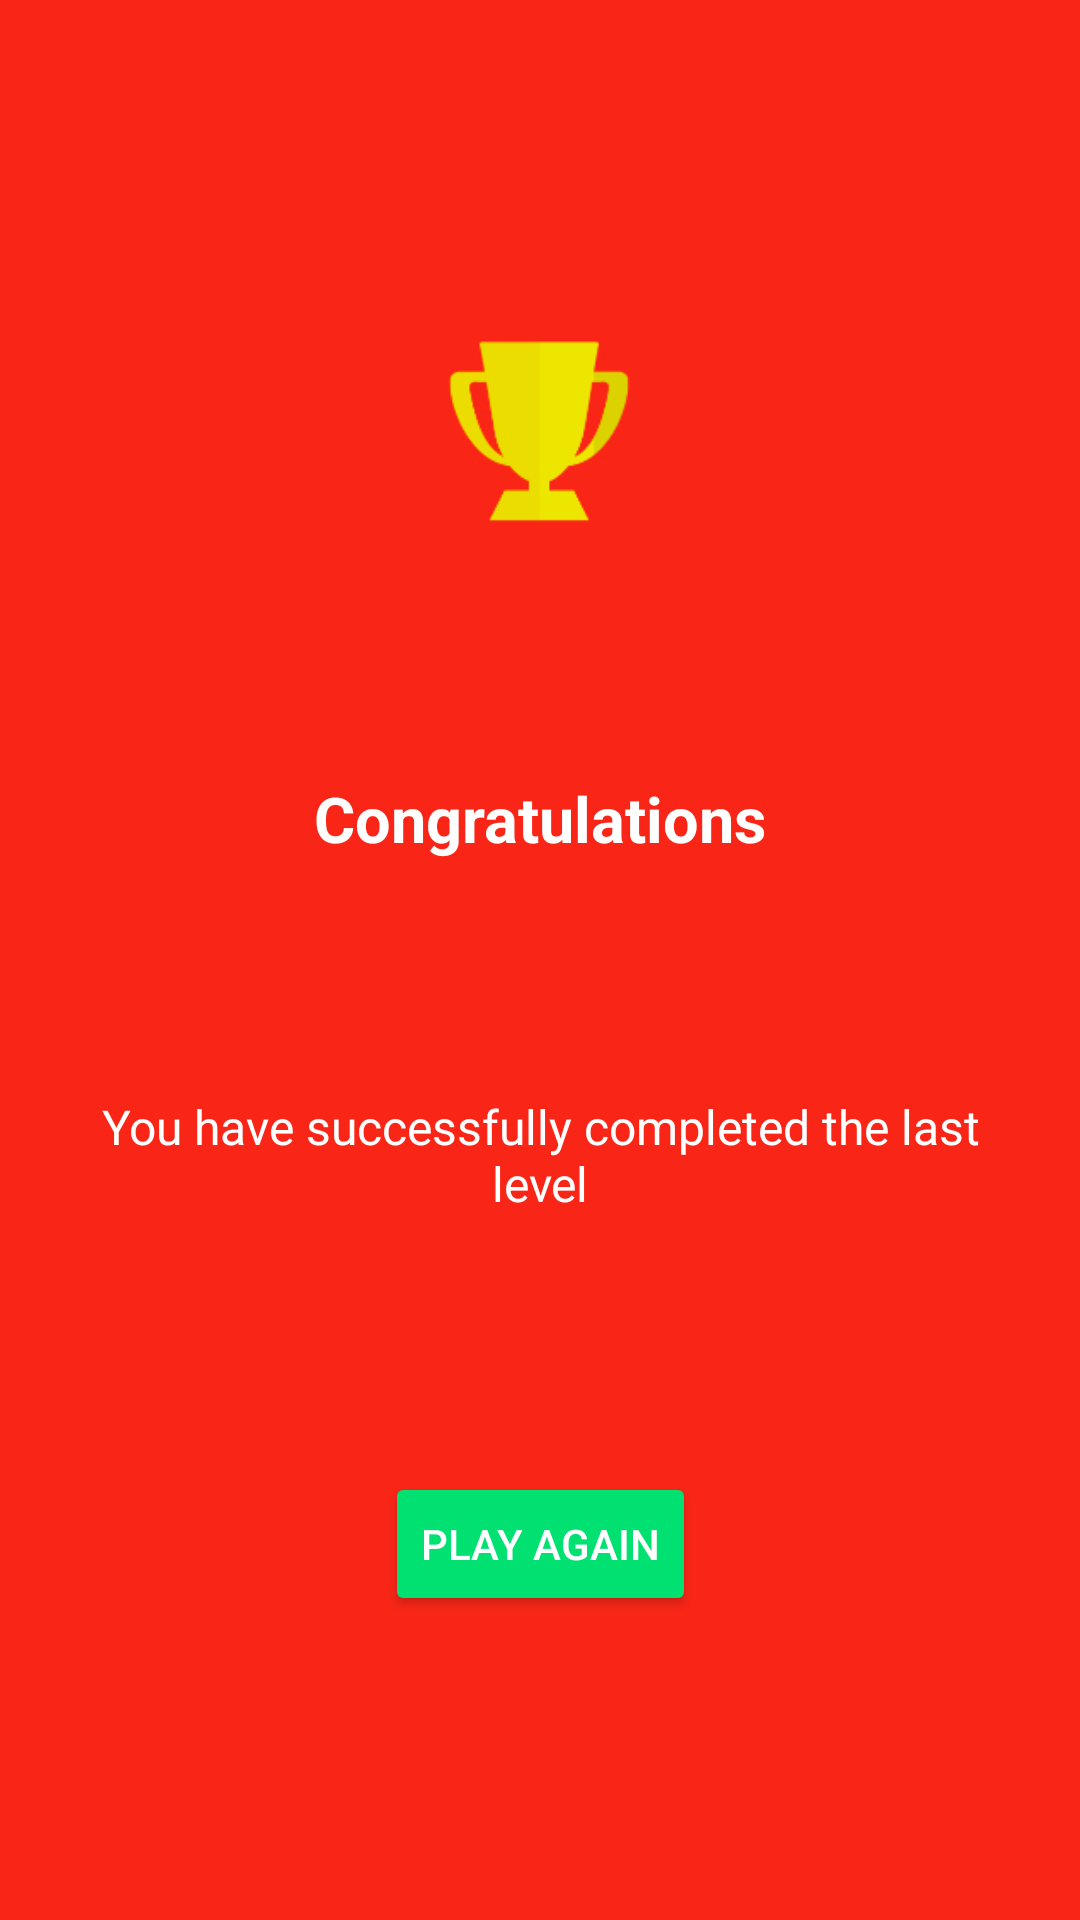

Where to tap for icons on this 1080*1920 app screen, as [x,y]:
cup: [539,431]
